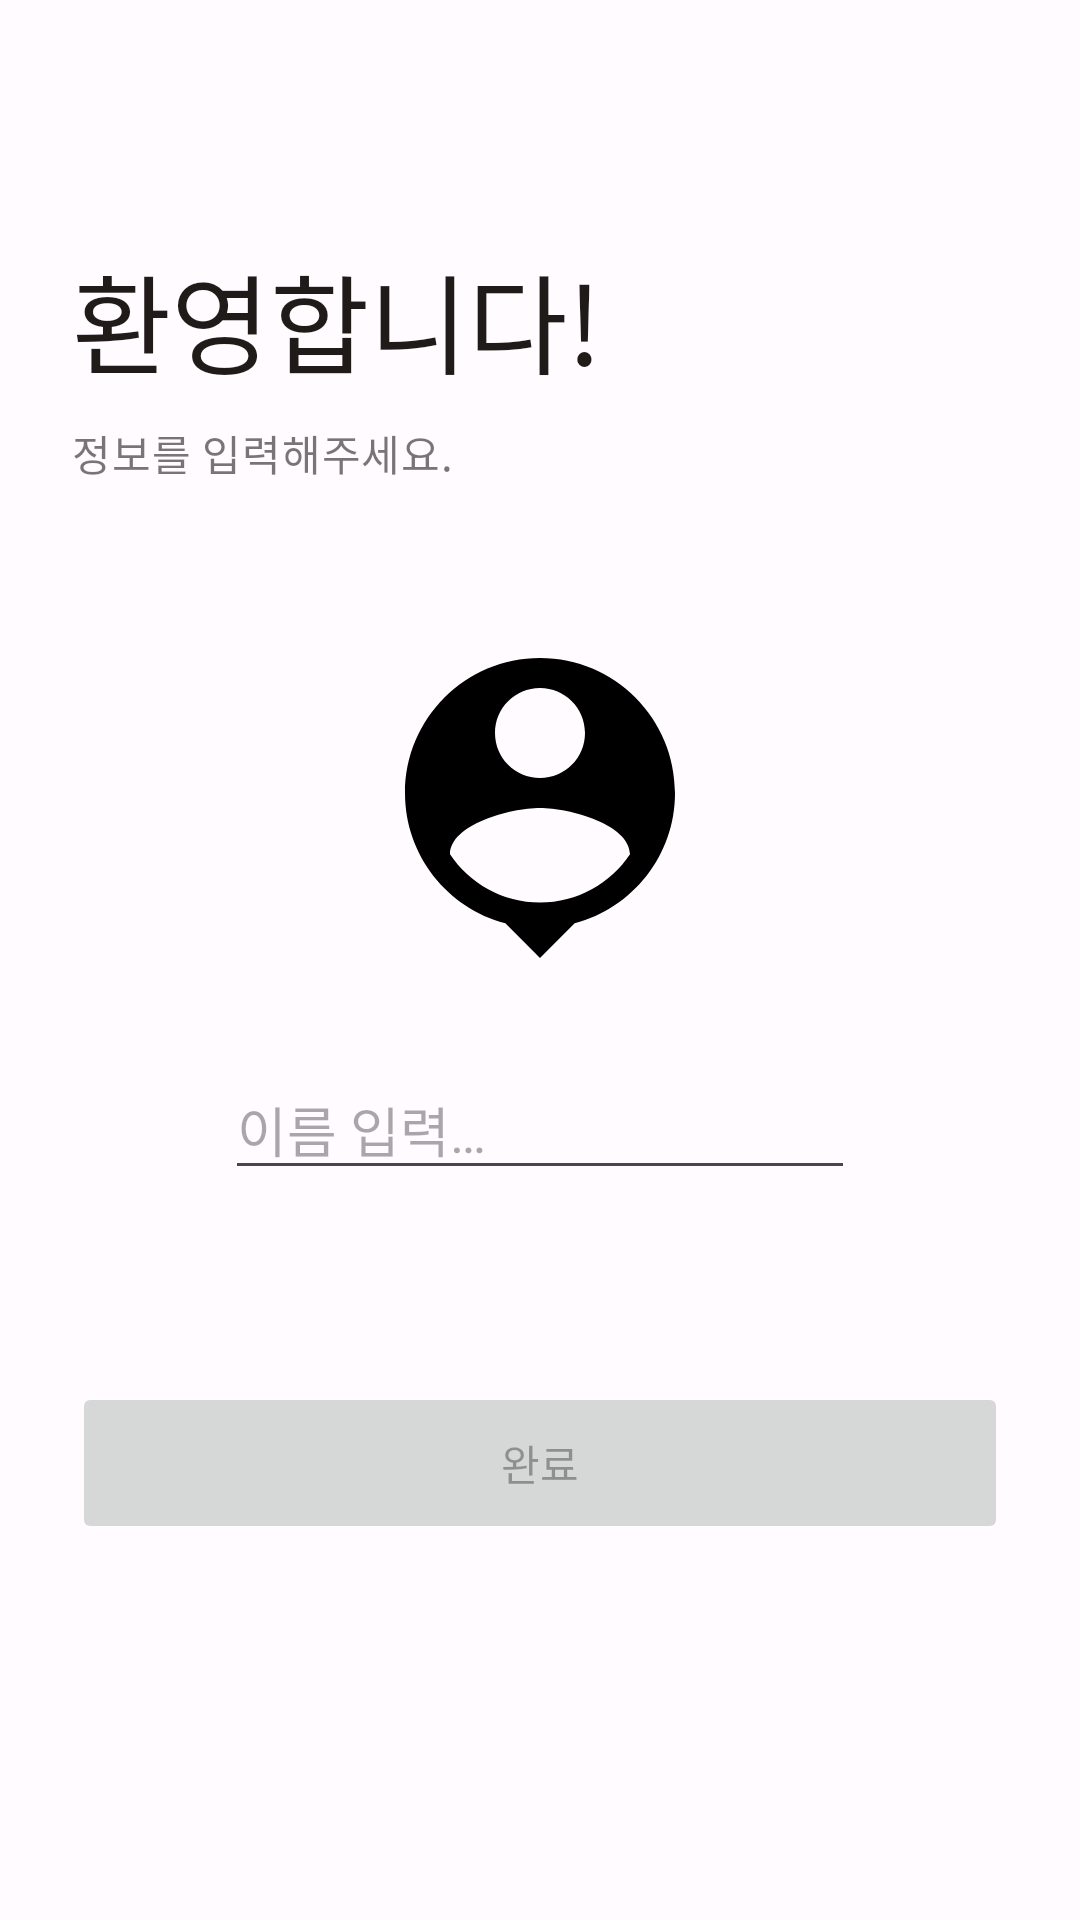

Screen size 1080 × 1920. Icon name, then its center in pixels as (x,y):
person pin: (540,808)
